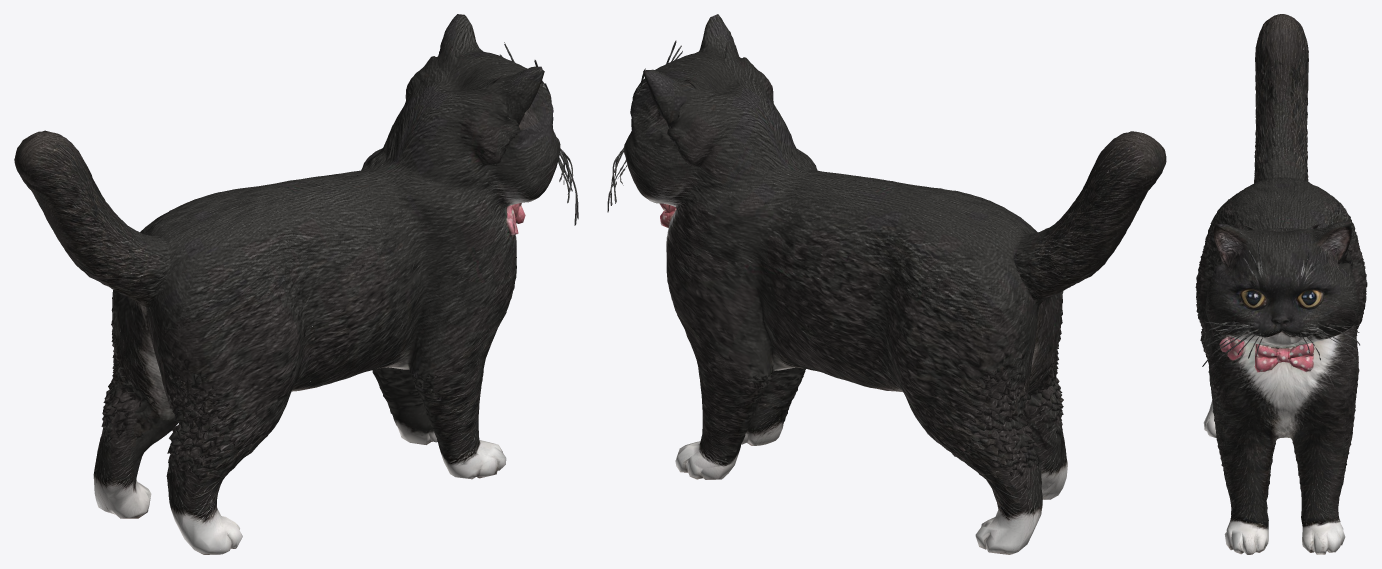
File: UNIUNI.glb
The picture shows the model from 3 angles, left to right: view 1: azimuth 30°, elevation 25°; view 2: azimuth 150°, elevation 25°; view 3: azimuth 270°, elevation 25°; orthographic projection. The views are drawn at different scales.
Parts seen in each view (by area): view 1: tripo_node_82a5628e-ff59-4e76-8ebc-1d98cefabe6f; view 2: tripo_node_82a5628e-ff59-4e76-8ebc-1d98cefabe6f; view 3: tripo_node_82a5628e-ff59-4e76-8ebc-1d98cefabe6f.
Boxes of the visible parts, box(x1,y1,x2,y2) form: tripo_node_82a5628e-ff59-4e76-8ebc-1d98cefabe6f: box(14, 14, 578, 554); tripo_node_82a5628e-ff59-4e76-8ebc-1d98cefabe6f: box(607, 14, 1166, 554); tripo_node_82a5628e-ff59-4e76-8ebc-1d98cefabe6f: box(1195, 14, 1367, 554).
Size of the model in its own units: 1.32 by 0.9987 by 0.433.
1 material, 1 textured.
